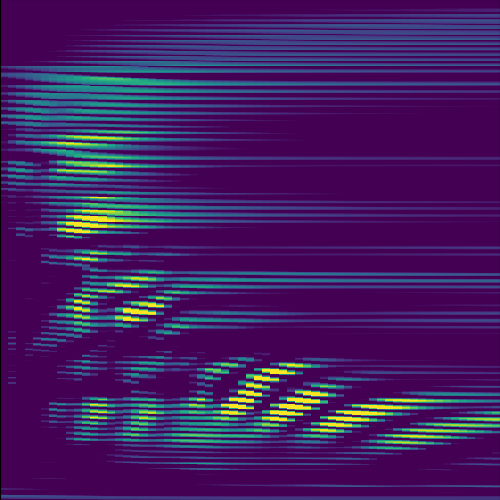semblance: (310, 386, 435, 451), (216, 356, 310, 423), (75, 270, 176, 332), (372, 404, 500, 452), (57, 194, 141, 237), (263, 383, 334, 432), (52, 126, 135, 149), (58, 155, 133, 180), (66, 245, 116, 265), (202, 362, 240, 379)
